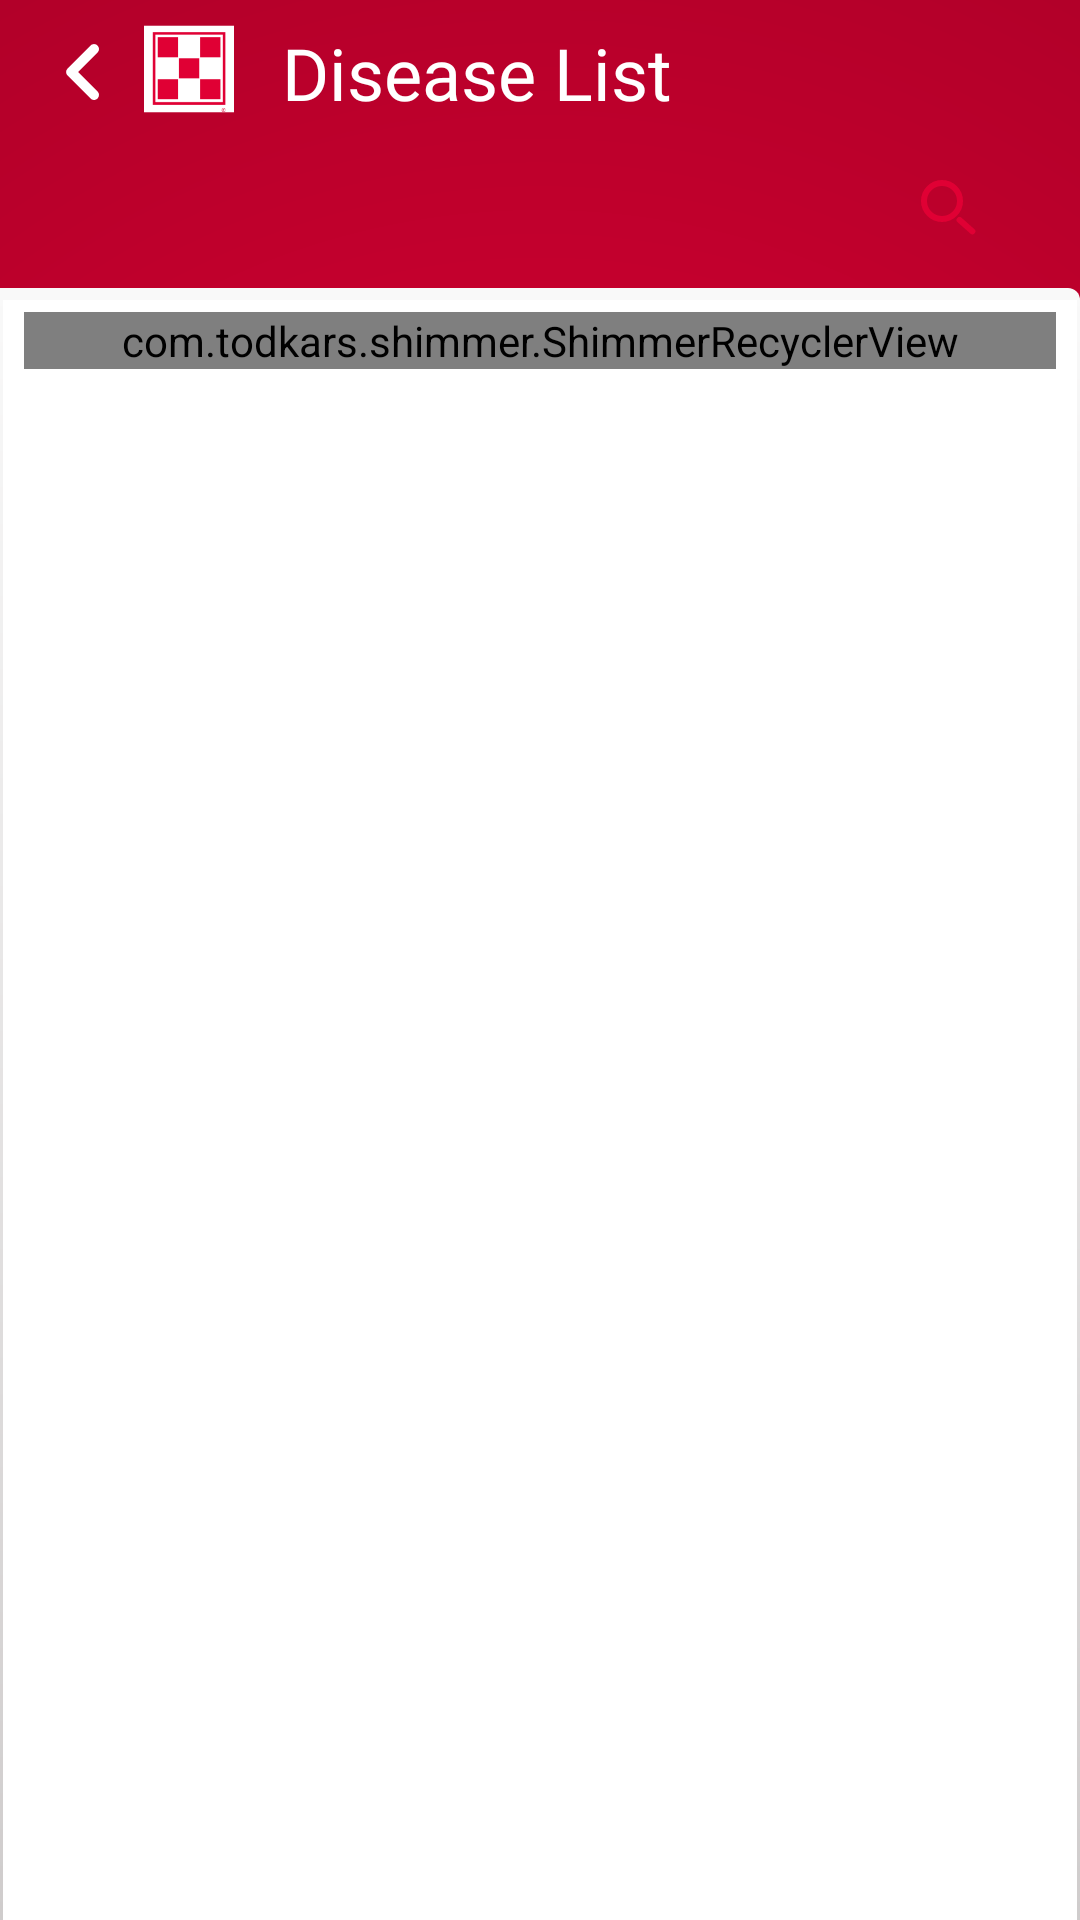

Locate icon controls on the screen. Image size 1080x1920, boxes as (x1, y1, x2, y2).
arrow left: (66, 44, 99, 100)
